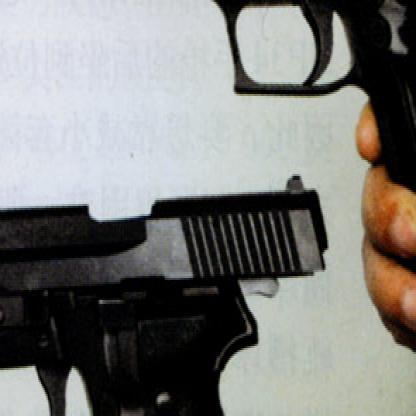gun: (59, 0, 415, 334), (0, 160, 342, 415)
